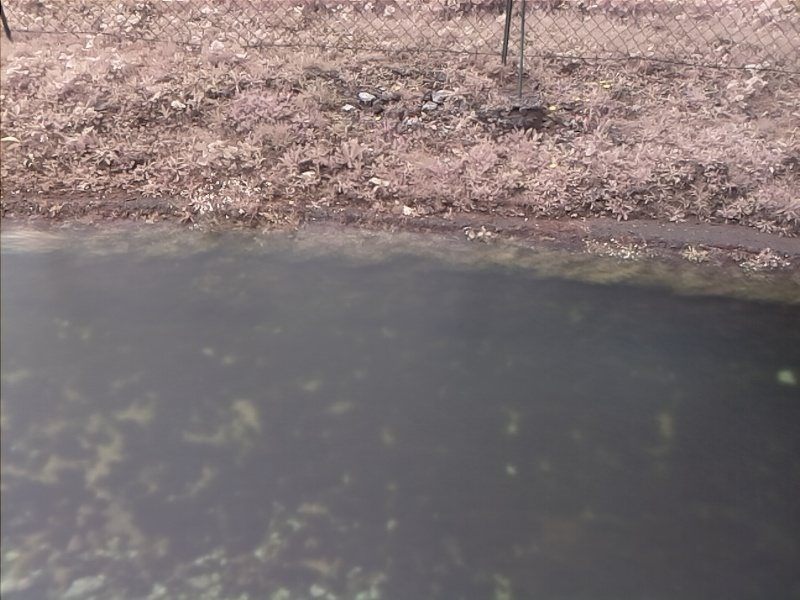Water: (1, 215, 799, 600)
